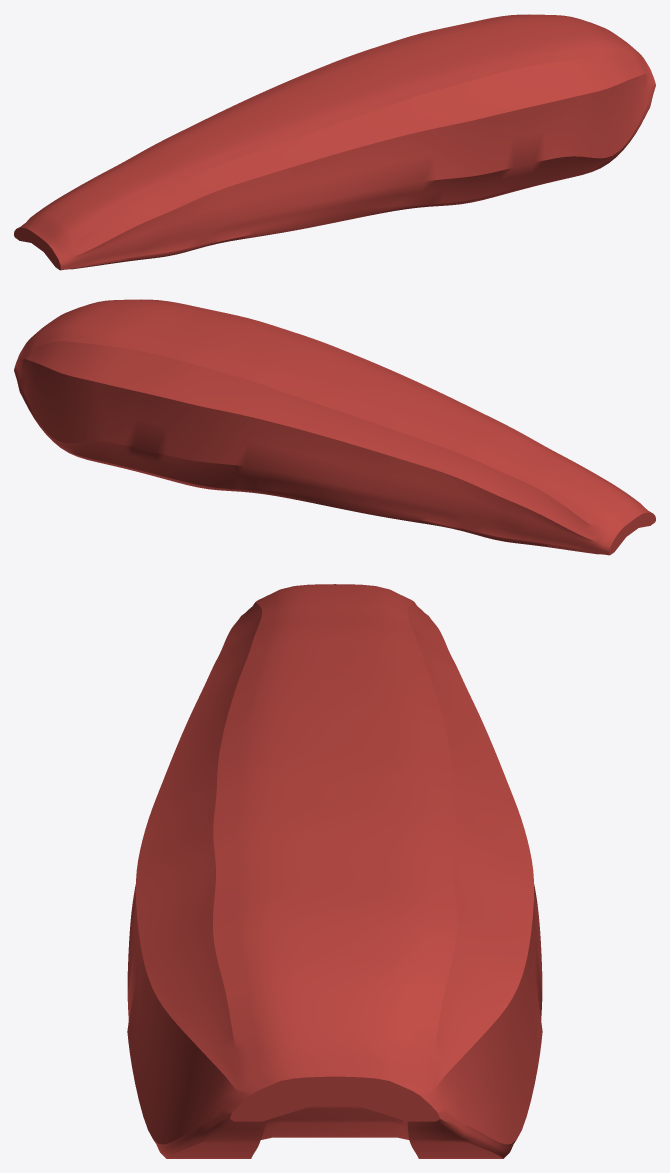
Rendered from bobber_2_lod1.glb.
3 renders of one model, top to bottom at view 1: azimuth 30°, elevation 25°; view 2: azimuth 150°, elevation 25°; view 3: azimuth 270°, elevation 25°, orthographic. The views are drawn at different scales.
Parts seen in each view (by area): view 1: bobber_2_lod1; view 2: bobber_2_lod1; view 3: bobber_2_lod1.
Part boxes in pixels (x1,y1,x2,y2): bobber_2_lod1: (14, 14, 655, 270); bobber_2_lod1: (14, 299, 655, 555); bobber_2_lod1: (127, 584, 542, 1158).
Bounding box in the file's own units: 1.06 × 0.2022 × 0.3233.
